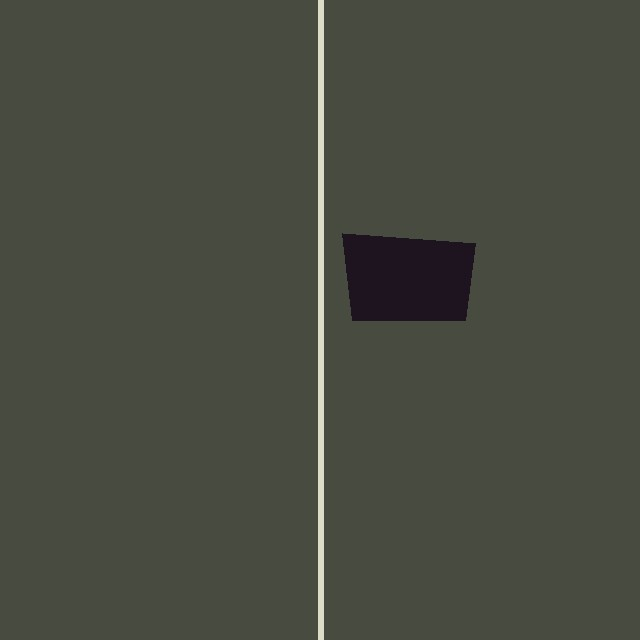damaged_surface: (342, 233, 475, 320)
